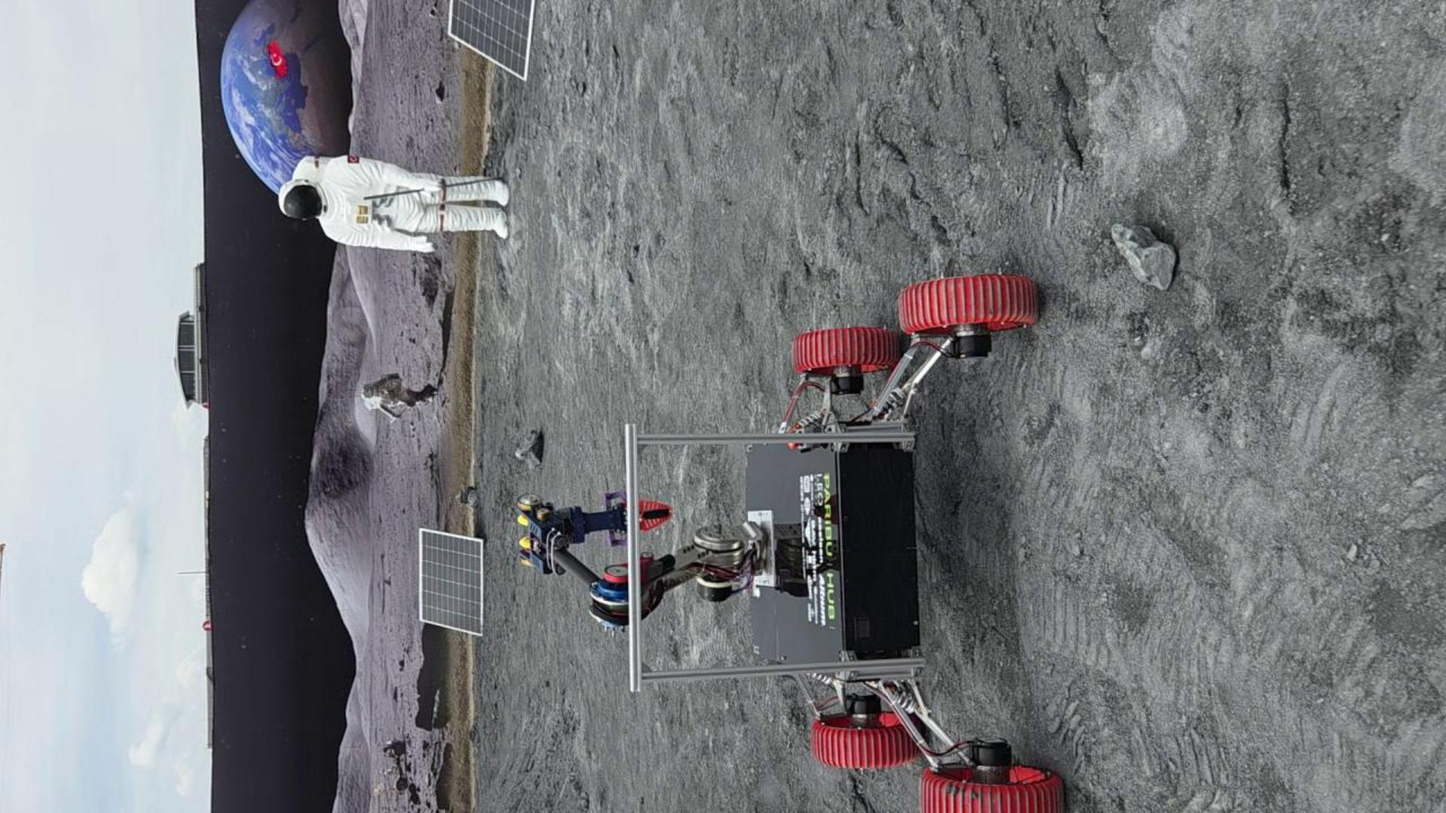rock: (1110, 224, 1176, 289), (514, 430, 543, 467)
